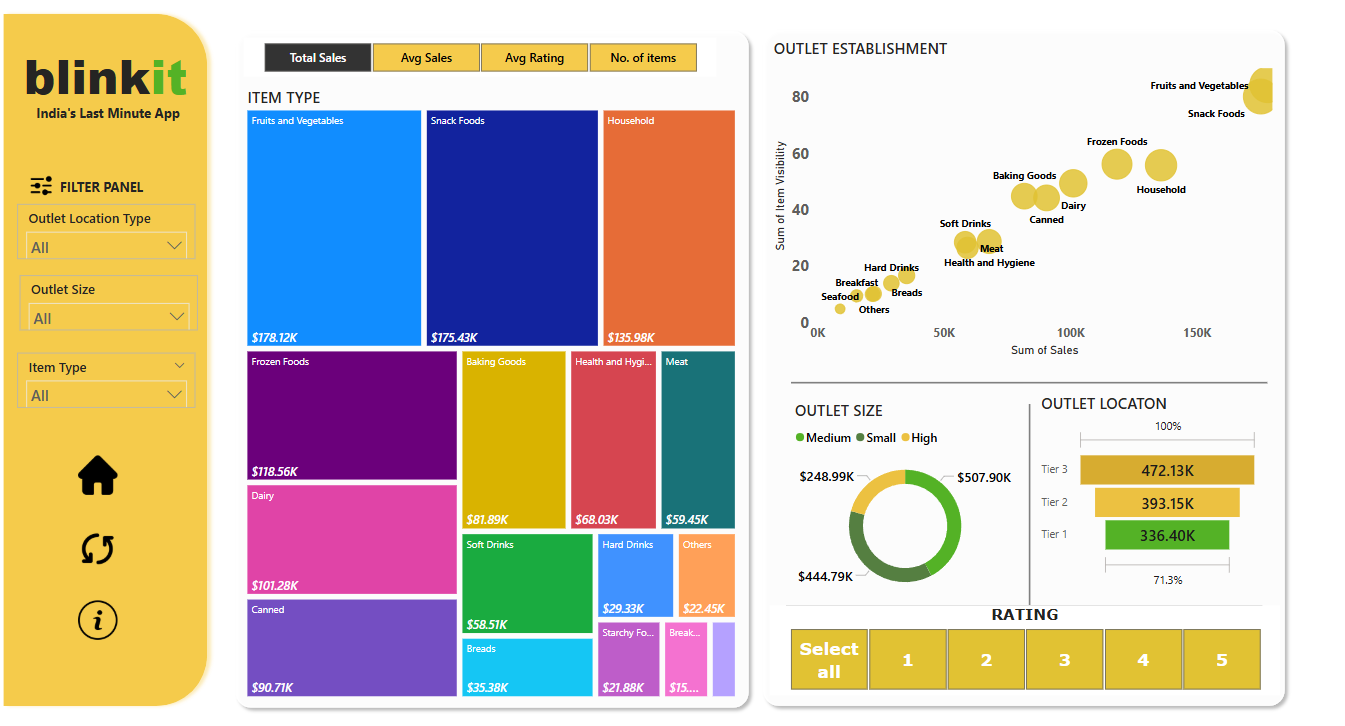

The dashboard page shown, as its layout file describes it:
{"tool":"powerbi","page":{"name":"Dashboard2","canvas":[1700,900],"ordinal":1},"visuals":[{"type":"shape","box":[0,10,270,873.3],"z":0},{"type":"textbox","box":[30,48.6,232.9,95.7],"z":1000},{"type":"textbox","box":[44.3,125.7,205.7,37.1],"z":2000},{"type":"shape","box":[286.5,30.2,651.5,853.6],"z":3000},{"type":"slicer","fields":{"Values":["Metrics.Metrics"]},"box":[306.1,48.3,583.6,48.3],"z":4000},{"type":"treemap","title":"ITEM TYPE","fields":{"Values":["BlinkIT Grocery Data.Total Sales"],"Group":["BlinkIT Grocery Data.Item Type"]},"box":[306.1,108.6,612.3,758.5],"z":5000},{"type":"shape","box":[938.5,29.8,662.1,853],"z":6000},{"type":"scatterChart","title":"OUTLET ESTABLISHMENT","fields":{"X":["Sum(BlinkIT Grocery Data.Sales)"],"Y":["Sum(BlinkIT Grocery Data.Item Visibility)"],"Size":["Sum(BlinkIT Grocery Data.Item Weight)"],"Category":["BlinkIT Grocery Data.Item Type"]},"box":[955.9,47.9,645.5,400],"z":7000},{"type":"shape","box":[982.2,457.3,588.5,33.8],"z":8000},{"type":"donutChart","title":"OUTLET SIZE","fields":{"Y":["BlinkIT Grocery Data.Total Sales"],"Category":["BlinkIT Grocery Data.Outlet Size"]},"box":[982.2,495.1,282.3,254.5],"z":9000},{"type":"shape","box":[1256.6,501,39.8,248.5],"z":10000},{"type":"funnel","title":"OUTLET LOCATON","fields":{"Y":["Sum(BlinkIT Grocery Data.Sales)"],"Category":["BlinkIT Grocery Data.Outlet Location Type"]},"box":[1286.4,487.1,278.4,246.5],"z":11000},{"type":"shape","box":[976.2,731.7,588.5,35.8],"z":12000},{"type":"slicer","fields":{"Values":["BlinkIT Grocery Data.Outlet Location Type"]},"box":[26.7,253.3,220,68.3],"z":13000},{"type":"slicer","fields":{"Values":["BlinkIT Grocery Data.Outlet Size"]},"box":[30,341.7,220,68.3],"z":14000},{"type":"slicer","fields":{"Values":["BlinkIT Grocery Data.Item Type"]},"box":[26.7,436.7,220,68.3],"z":15000},{"type":"textbox","box":[74.2,215.7,123.7,37.7],"z":16000},{"type":"image","box":[95,559.5,60.3,58.8],"z":17000},{"type":"image","box":[36.5,206.6,37.7,46.7],"z":18000},{"type":"image","box":[95,650,60.3,58.8],"z":19000},{"type":"image","box":[95,737.4,60.3,58.8],"z":20000},{"type":"slicer","title":"RATING","fields":{"Values":["BlinkIT Grocery Data.Rating"]},"box":[956.4,749.6,630.3,111.3],"z":21000}]}

Visuals, with their boxes in screenshot pixels (x1, y1, x2, y2), scaled from the page's 1700x900 canvas onto the 1345x726 screenshot:
shape: region(0, 8, 214, 713)
textbox: region(24, 39, 208, 116)
textbox: region(35, 101, 198, 131)
shape: region(227, 24, 742, 713)
slicer - Metrics.Metrics: region(242, 39, 704, 78)
"ITEM TYPE" treemap: region(242, 88, 727, 699)
shape: region(743, 24, 1266, 712)
"OUTLET ESTABLISHMENT" scatterChart: region(756, 39, 1267, 361)
shape: region(777, 369, 1243, 396)
"OUTLET SIZE" donutChart: region(777, 399, 1000, 605)
shape: region(994, 404, 1026, 605)
"OUTLET LOCATON" funnel: region(1018, 393, 1238, 592)
shape: region(772, 590, 1238, 619)
slicer - BlinkIT Grocery Data.Outlet Location Type: region(21, 204, 195, 259)
slicer - BlinkIT Grocery Data.Outlet Size: region(24, 276, 198, 331)
slicer - BlinkIT Grocery Data.Item Type: region(21, 352, 195, 407)
textbox: region(59, 174, 157, 204)
image: region(75, 451, 123, 499)
image: region(29, 167, 59, 204)
image: region(75, 524, 123, 572)
image: region(75, 595, 123, 642)
"RATING" slicer: region(757, 605, 1255, 694)
